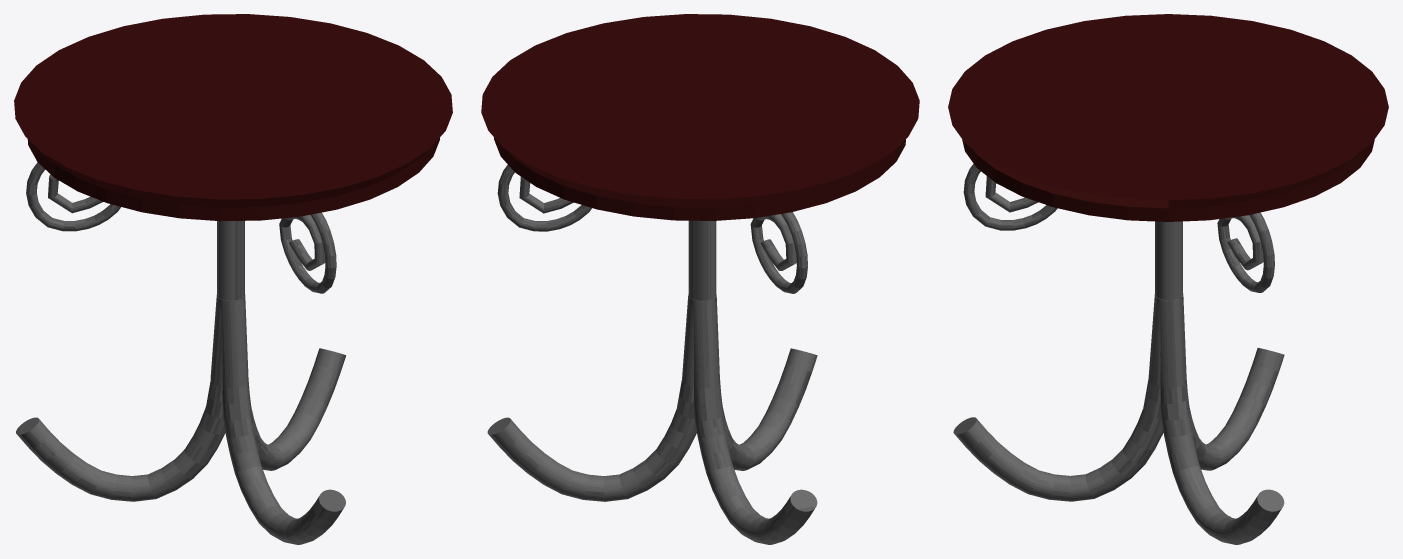
Rendered from luxury_metallic_table.obj.
The picture shows the model from 3 angles, left to right: view 1: azimuth 30°, elevation 25°; view 2: azimuth 150°, elevation 25°; view 3: azimuth 270°, elevation 25°; orthographic projection.
Visible parts, largest first — view 1: Cylinder.000_Cylinder.007; view 2: Cylinder.000_Cylinder.007; view 3: Cylinder.000_Cylinder.007.
Part boxes in pixels (bbox=[...]): Cylinder.000_Cylinder.007: bbox=[14, 14, 452, 544]; Cylinder.000_Cylinder.007: bbox=[481, 14, 919, 544]; Cylinder.000_Cylinder.007: bbox=[948, 14, 1388, 544].
Size of the model in its own units: 2.26 by 2.23 by 2.26.
